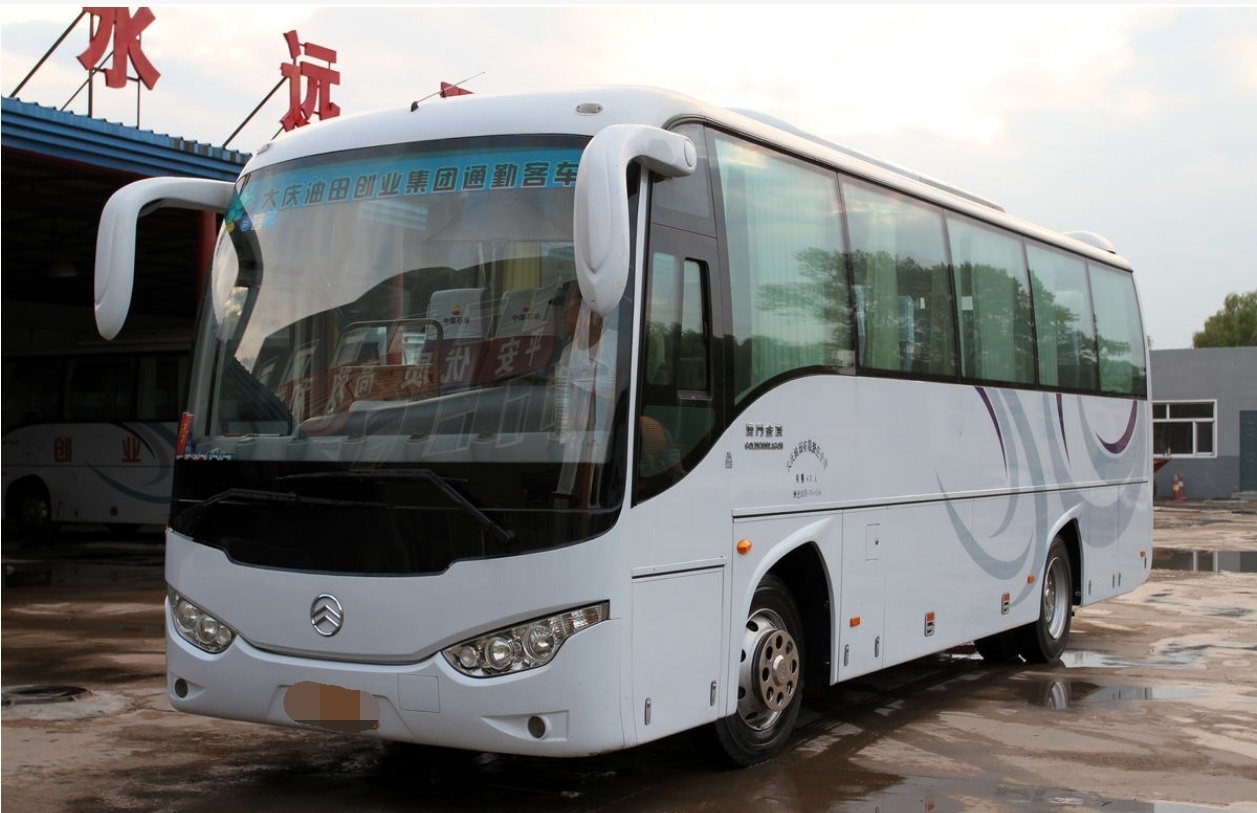bus: (84, 89, 1163, 758)
